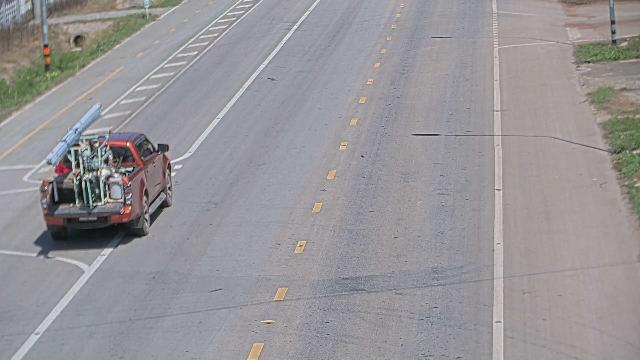pickup-truck: (36, 101, 173, 240)
